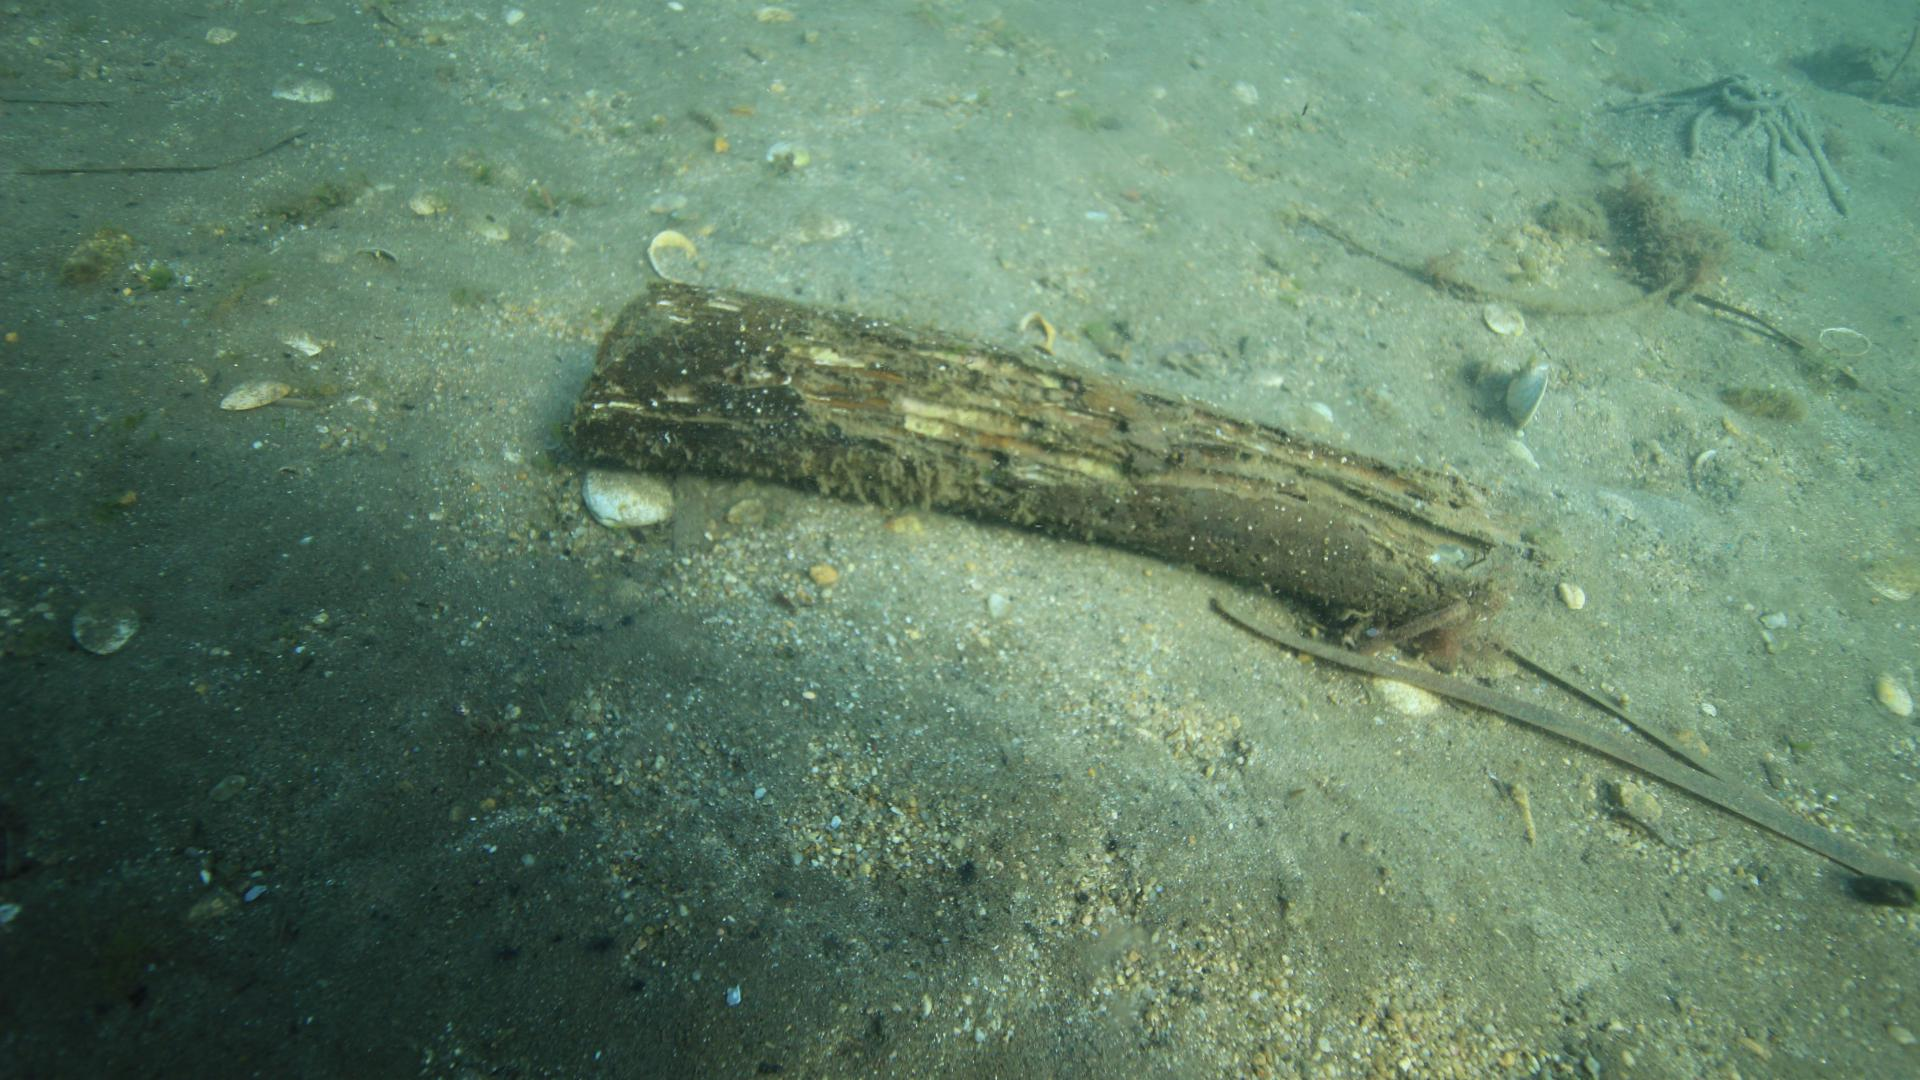wood: (558, 280, 1548, 632)
